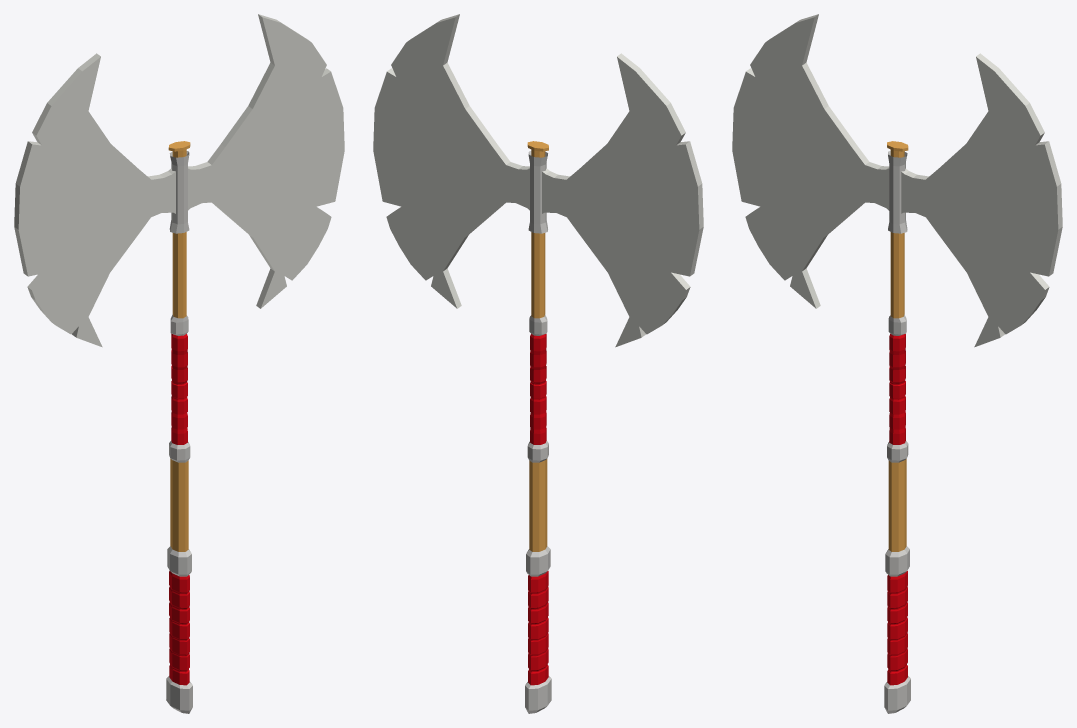
File: VikingAxe.fbx
3 views of the same model, side by side, from view 1: azimuth 30°, elevation 25°; view 2: azimuth 150°, elevation 25°; view 3: azimuth 330°, elevation 25° (orthographic).
Visible parts, largest first — view 1: Axe_Head_Metal; view 2: Axe_Head_Metal; view 3: Axe_Head_Metal.
Part boxes in pixels (x1,y1,x2,y2): Axe_Head_Metal: [14, 14, 344, 713]; Axe_Head_Metal: [373, 14, 703, 713]; Axe_Head_Metal: [732, 14, 1062, 713].
Bounding box in the file's own units: 337 × 662 × 34.64.
